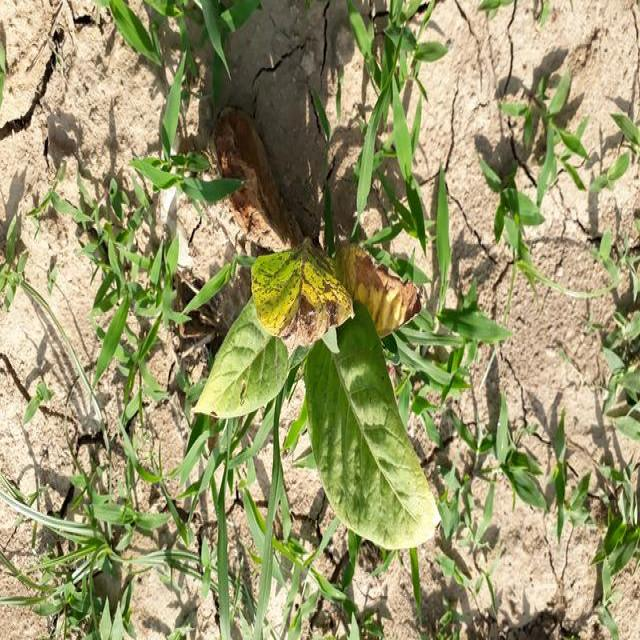crop: (208, 175, 438, 566)
